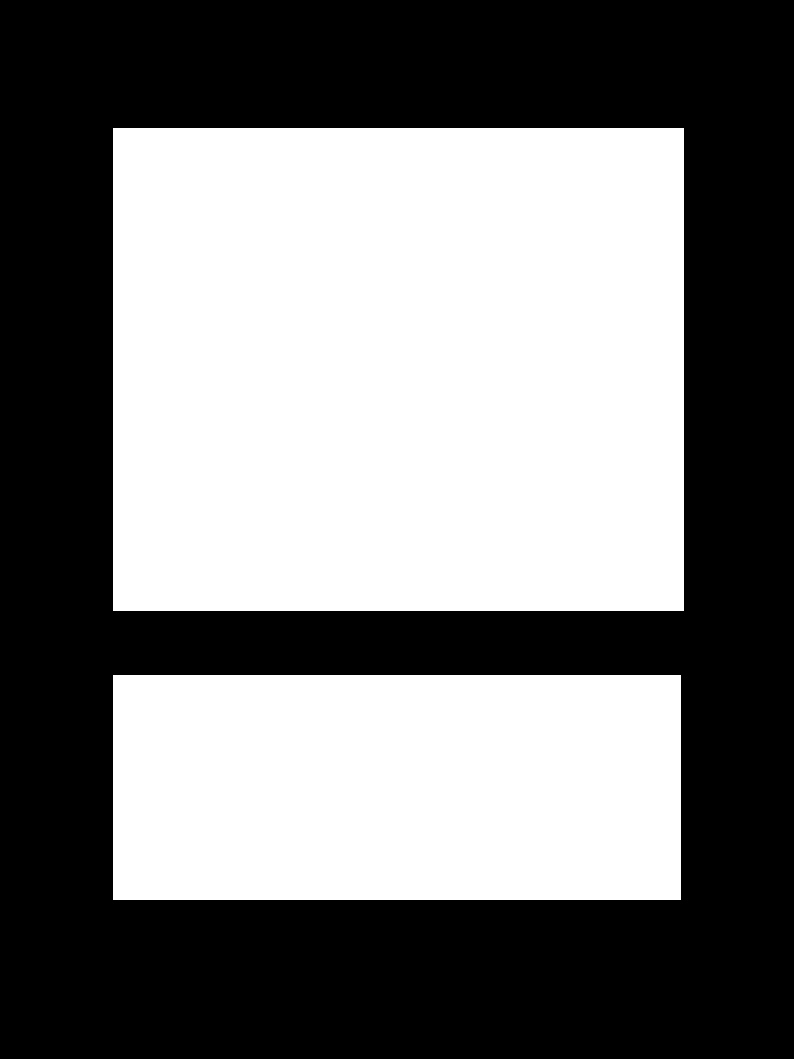table: (113, 128, 683, 610), (113, 675, 680, 899)
